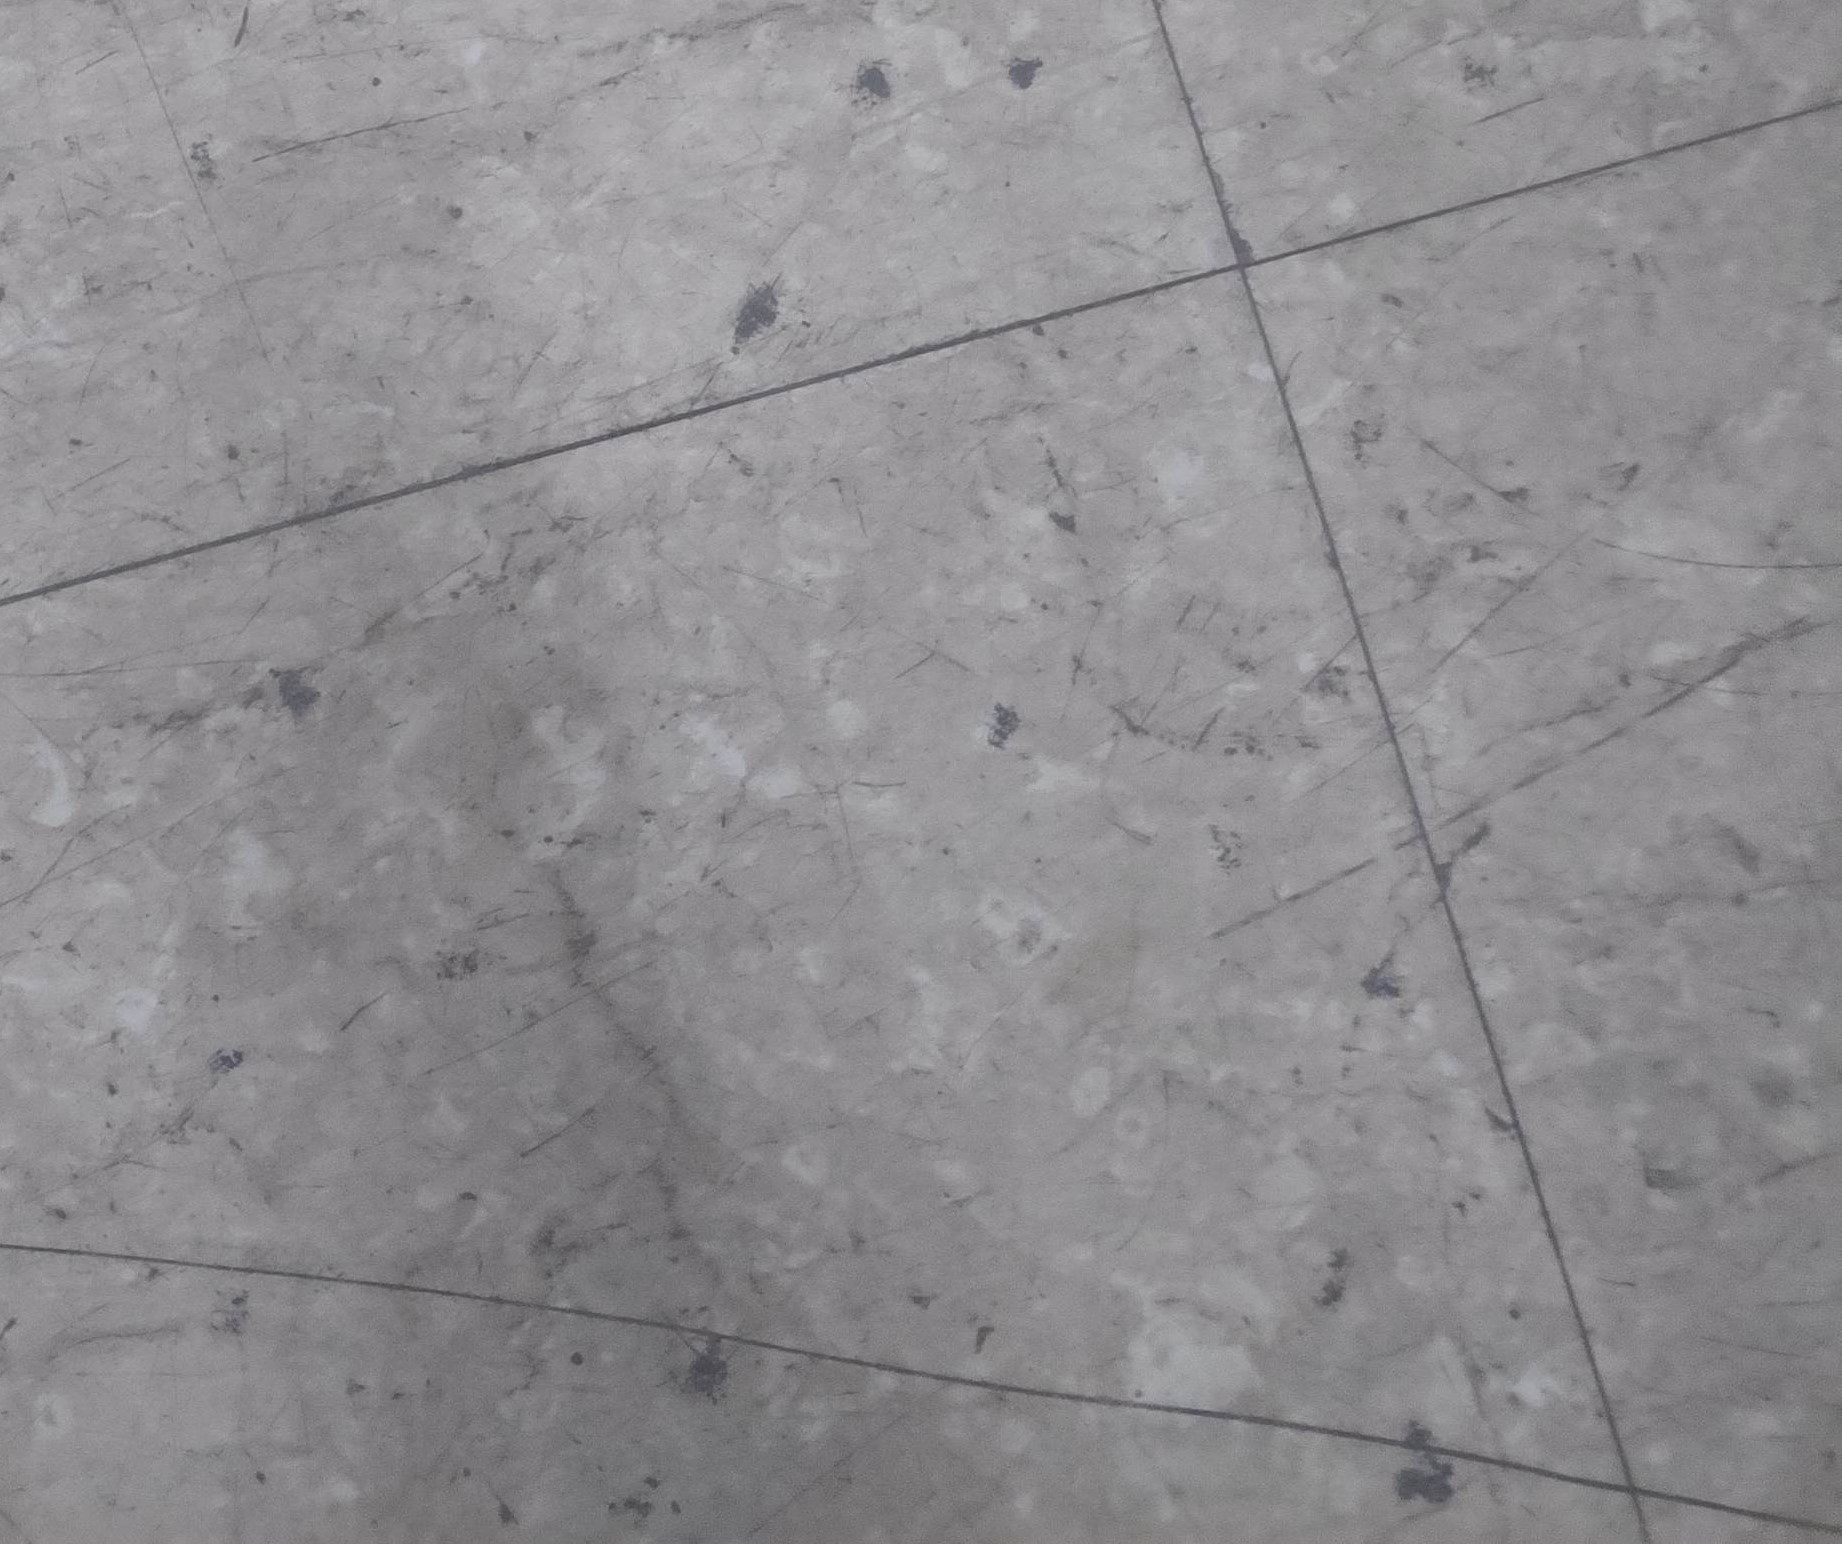grey spot: (732, 271, 782, 355), (988, 702, 1020, 751)
